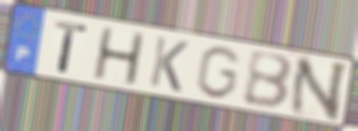B: (241, 50, 296, 112)
G: (193, 45, 243, 101)
H: (89, 26, 147, 88)
K: (146, 34, 191, 95)
N: (286, 57, 352, 123)
T: (53, 19, 90, 76)
